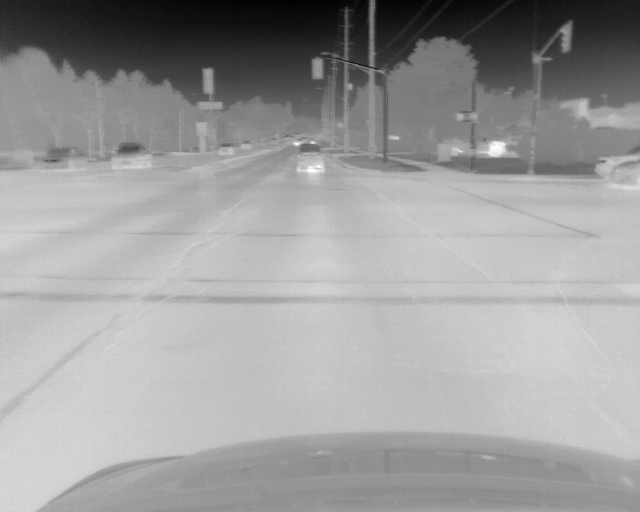car: (596, 145, 640, 175), (38, 148, 87, 172), (110, 143, 153, 169), (296, 141, 324, 174), (611, 160, 640, 185), (218, 143, 233, 155), (241, 141, 251, 151)
